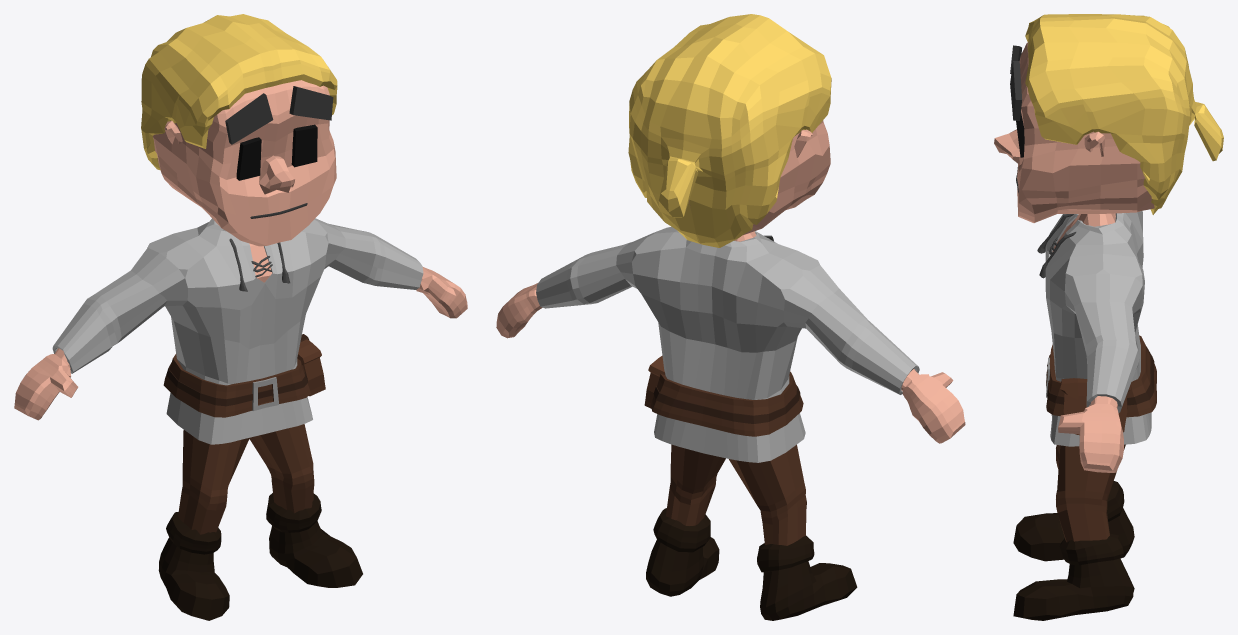
The model's file is Base_Set_MainChar.fbx.
3 views of the same model, side by side, from view 1: azimuth 30°, elevation 25°; view 2: azimuth 150°, elevation 25°; view 3: azimuth 270°, elevation 25° (orthographic). The views are drawn at different scales.
Parts seen in each view (by area): view 1: Cube.001, Cube.003; view 2: Cube.001, Cube.003; view 3: Cube.001, Cube.003.
Part boxes in pixels (x1,y1,x2,y2): Cube.001: (14, 14, 467, 620); Cube.003: (52, 218, 423, 444); Cube.001: (496, 14, 965, 620); Cube.003: (536, 226, 919, 462); Cube.001: (994, 14, 1223, 620); Cube.003: (1045, 211, 1151, 446).
Size of the model in its own units: 331 by 393 by 145.
